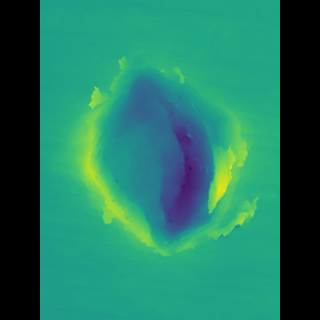Loch: (81, 44, 235, 259)
